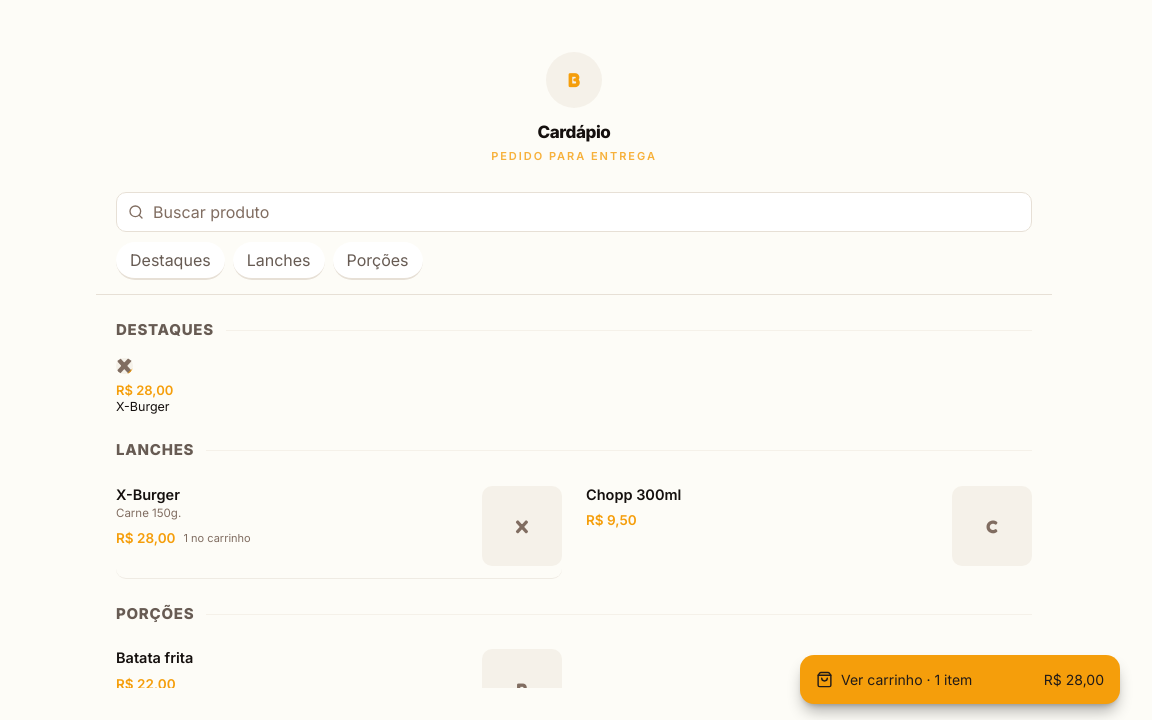
it: CustomerMenuPage (layout de loja) › a busca troca as seções por uma lista de resultados
Type "batata" into the field labelled "Buscar produto" at (574, 212), box [116,192,1032,232]
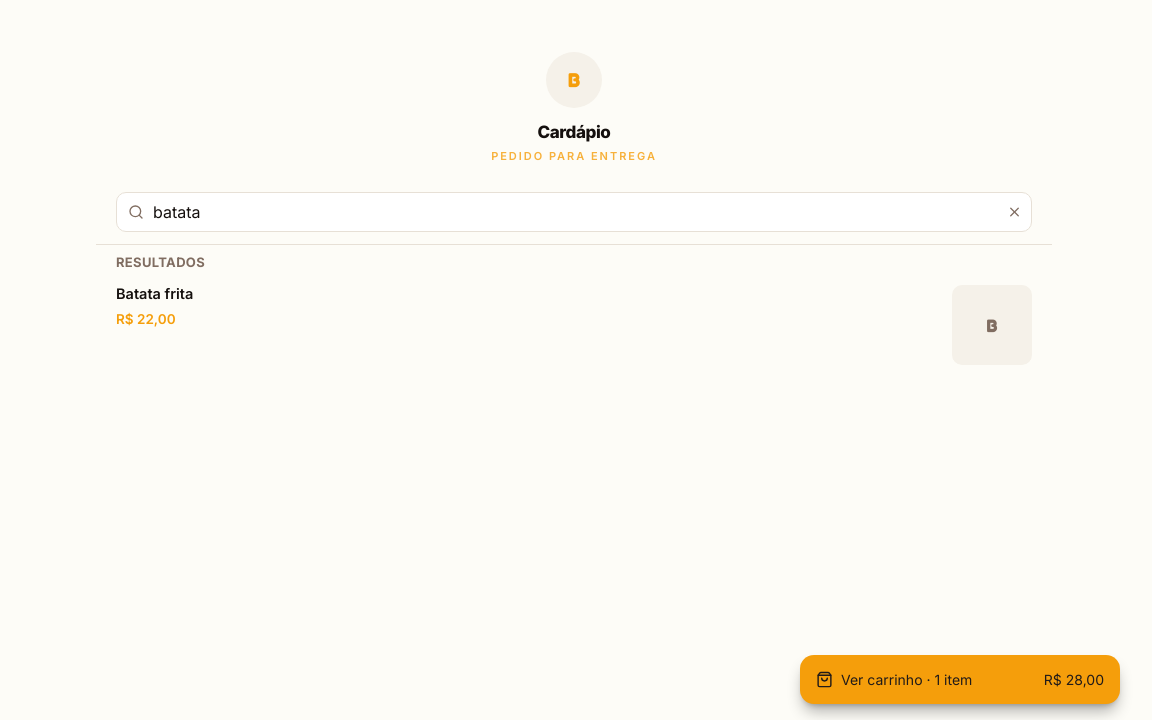
Result: the heading "Resultados" is shown at [116,254,205,270]
Result: no buttons "X-Burger" are shown
Result: no buttons "Destaques" are shown
